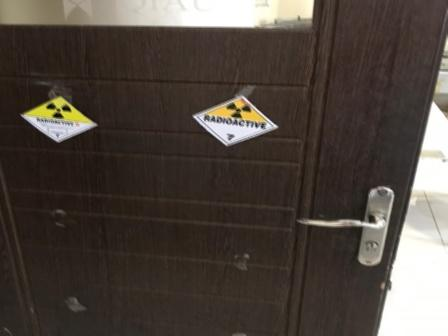radioactive: (190, 97, 283, 150), (18, 95, 102, 148)
